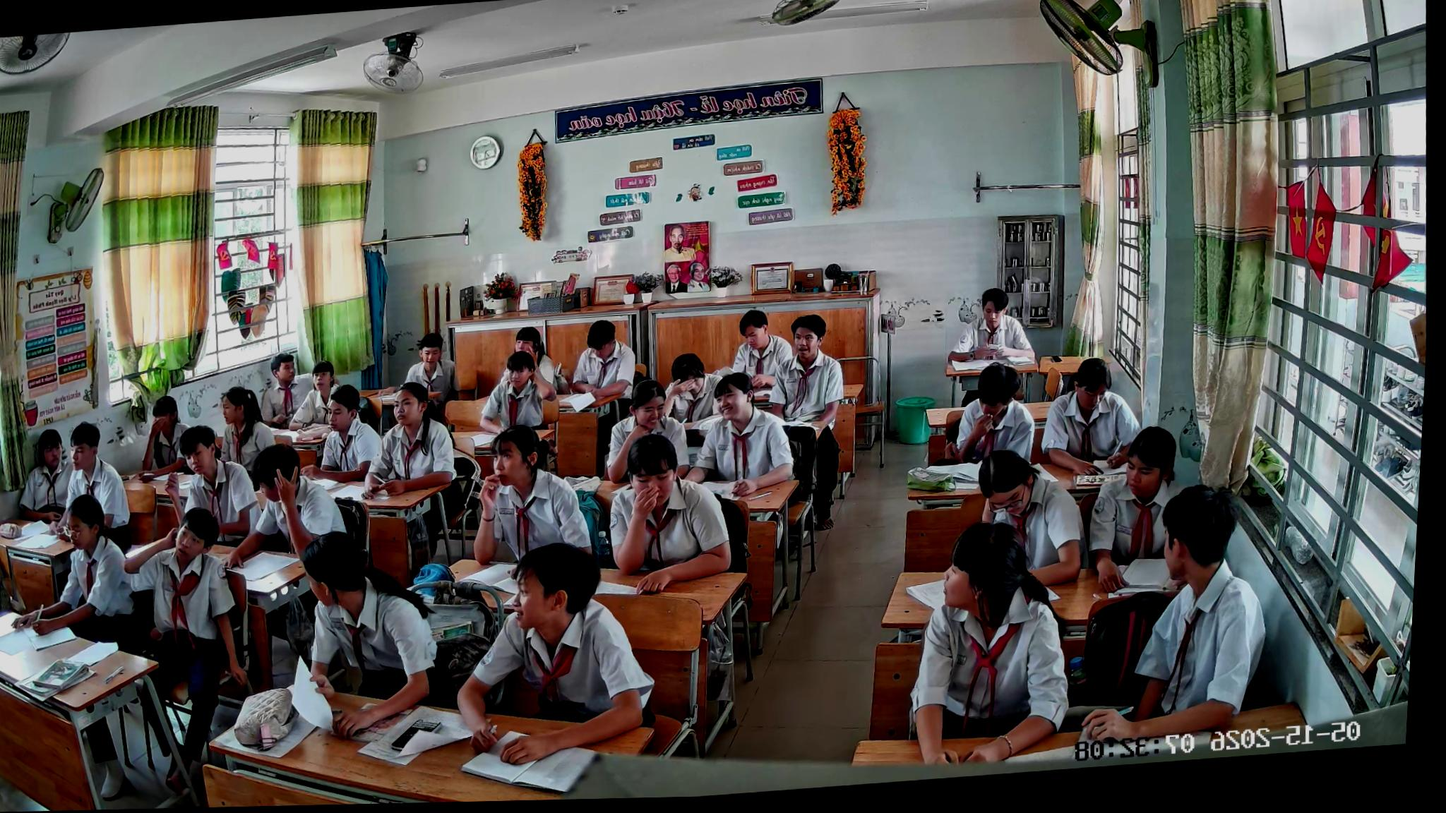person: (1064, 478, 1280, 749), (442, 535, 667, 769), (894, 514, 1083, 771), (107, 503, 265, 801), (286, 523, 451, 744), (3, 489, 161, 664), (599, 428, 740, 597), (756, 311, 855, 536), (1079, 422, 1204, 595), (466, 419, 601, 569), (969, 443, 1092, 591), (218, 438, 354, 571), (680, 367, 801, 503), (156, 420, 268, 550), (1034, 354, 1146, 480), (353, 378, 462, 501), (562, 316, 644, 465), (52, 418, 138, 556), (937, 360, 1040, 469), (594, 376, 697, 485), (294, 382, 387, 487), (941, 284, 1038, 365), (475, 348, 562, 436), (712, 306, 797, 393), (11, 426, 81, 527), (391, 331, 463, 428), (490, 323, 573, 399), (210, 384, 277, 475), (656, 350, 727, 431), (133, 394, 195, 483), (254, 352, 313, 432), (284, 359, 344, 431)
